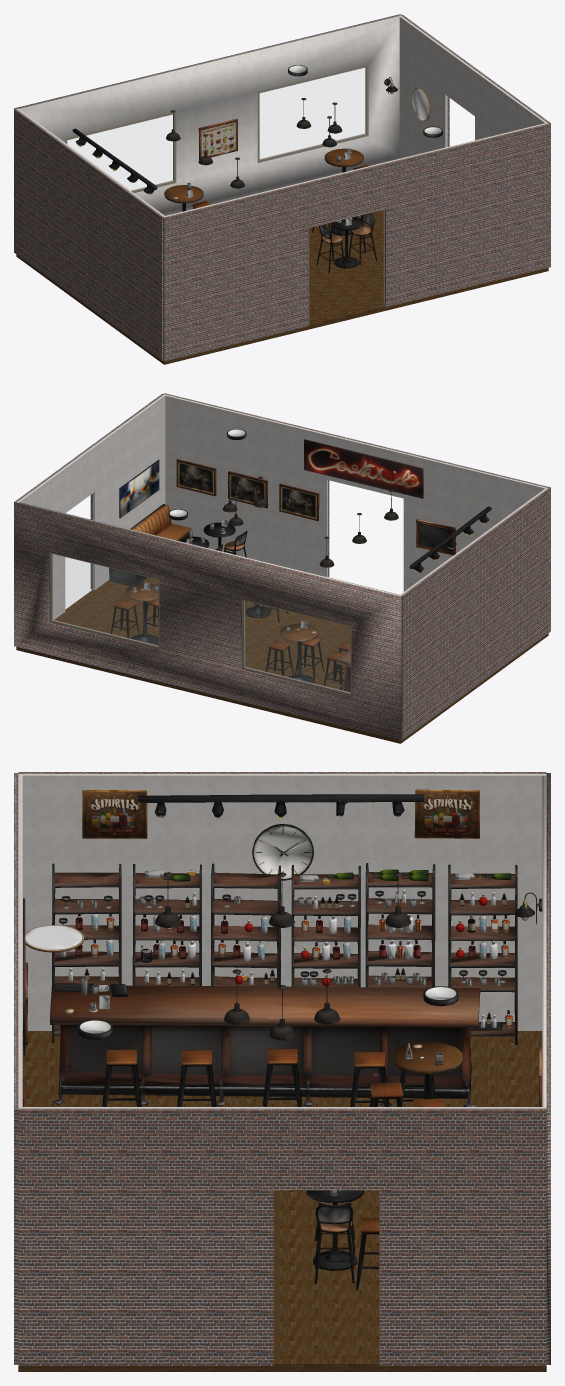
Rendered from scene_named.glb.
3 views of the same model, one above another, from view 1: azimuth 30°, elevation 25°; view 2: azimuth 150°, elevation 25°; view 3: azimuth 270°, elevation 25° (orthographic). The views are drawn at different scales.
Parts seen in each view (by area): view 1: south_wall_exterior_bar/south_wall_exterior_bar/geometry_0, north_wall_bar/north_wall_bar/geometry_0, west_wall_exterior_bar/west_wall_exterior_bar/geometry_0, east_wall_bar/east_wall_bar/geometry_0, floor_bar, window_2_bar/window_2_bar/glass, window_1_bar/window_1_bar/glass, poster_print_0, window_2_bar/window_2_bar/frame, south_wall_bar/south_wall_bar/geometry_0, track_lighting_0, north_wall_exterior_bar/north_wall_exterior_bar/geometry_0 (+8 smaller); view 2: north_wall_exterior_bar/north_wall_exterior_bar/geometry_0, south_wall_bar/south_wall_bar/geometry_0, west_wall_exterior_bar/west_wall_exterior_bar/geometry_0, floor_bar, east_wall_bar/east_wall_bar/geometry_0, window_2_bar/window_2_bar/glass, window_1_bar/window_1_bar/glass, neon_sign_0, banquette_bench_0, painting_0, print_0, print_2 (+12 smaller); view 3: east_wall_exterior_bar/east_wall_exterior_bar/geometry_0, west_wall_bar/west_wall_bar/geometry_0, bar_counter_0, floor_bar, backbar_shelving_unit_5, backbar_shelving_unit_2, backbar_shelving_unit_0, backbar_shelving_unit_4, backbar_shelving_unit_3, backbar_shelving_unit_1, metal_sign_0, track_lighting_0 (+16 smaller).
Part boxes in pixels (left/top/right/bottom): south_wall_exterior_bar/south_wall_exterior_bar/geometry_0: left=163, top=123, right=550, bottom=361; north_wall_bar/north_wall_bar/geometry_0: left=19, top=16, right=399, bottom=215; west_wall_exterior_bar/west_wall_exterior_bar/geometry_0: left=14, top=109, right=163, bottom=360; east_wall_bar/east_wall_bar/geometry_0: left=399, top=15, right=548, bottom=158; floor_bar: left=16, top=210, right=548, bottom=364; window_2_bar/window_2_bar/glass: left=260, top=68, right=365, bottom=159; window_1_bar/window_1_bar/glass: left=67, top=115, right=173, bottom=190; poster_print_0: left=198, top=118, right=237, bottom=159; window_2_bar/window_2_bar/frame: left=257, top=64, right=368, bottom=162; south_wall_bar/south_wall_bar/geometry_0: left=165, top=123, right=545, bottom=306; track_lighting_0: left=72, top=128, right=157, bottom=194; north_wall_exterior_bar/north_wall_exterior_bar/geometry_0: left=14, top=14, right=401, bottom=109; north_wall_exterior_bar/north_wall_exterior_bar/geometry_0: left=14, top=502, right=401, bottom=740; south_wall_bar/south_wall_bar/geometry_0: left=165, top=395, right=545, bottom=591; west_wall_exterior_bar/west_wall_exterior_bar/geometry_0: left=401, top=488, right=550, bottom=739; floor_bar: left=16, top=577, right=548, bottom=743; east_wall_bar/east_wall_bar/geometry_0: left=16, top=394, right=165, bottom=619; window_2_bar/window_2_bar/glass: left=52, top=554, right=158, bottom=645; window_1_bar/window_1_bar/glass: left=245, top=601, right=350, bottom=692; neon_sign_0: left=304, top=439, right=423, bottom=498; banquette_bench_0: left=109, top=504, right=191, bottom=585; painting_0: left=119, top=459, right=159, bottom=518; print_0: left=176, top=459, right=216, bottom=496; print_2: left=279, top=483, right=319, bottom=520; east_wall_exterior_bar/east_wall_exterior_bar/geometry_0: left=18, top=1108, right=546, bottom=1365; west_wall_bar/west_wall_bar/geometry_0: left=18, top=774, right=546, bottom=1030; bar_counter_0: left=50, top=985, right=480, bottom=1106; floor_bar: left=18, top=1031, right=546, bottom=1371; backbar_shelving_unit_5: left=448, top=864, right=517, bottom=1044; backbar_shelving_unit_2: left=211, top=863, right=280, bottom=986; backbar_shelving_unit_0: left=52, top=863, right=121, bottom=1043; backbar_shelving_unit_4: left=365, top=863, right=435, bottom=987; backbar_shelving_unit_3: left=291, top=865, right=360, bottom=987; backbar_shelving_unit_1: left=132, top=864, right=201, bottom=985; metal_sign_0: left=82, top=790, right=147, bottom=838; track_lighting_0: left=137, top=794, right=423, bottom=819.
Size of the model in its own units: 9.1 by 3.3 by 6.1.
Materials: 58 (56 with a texture image).
